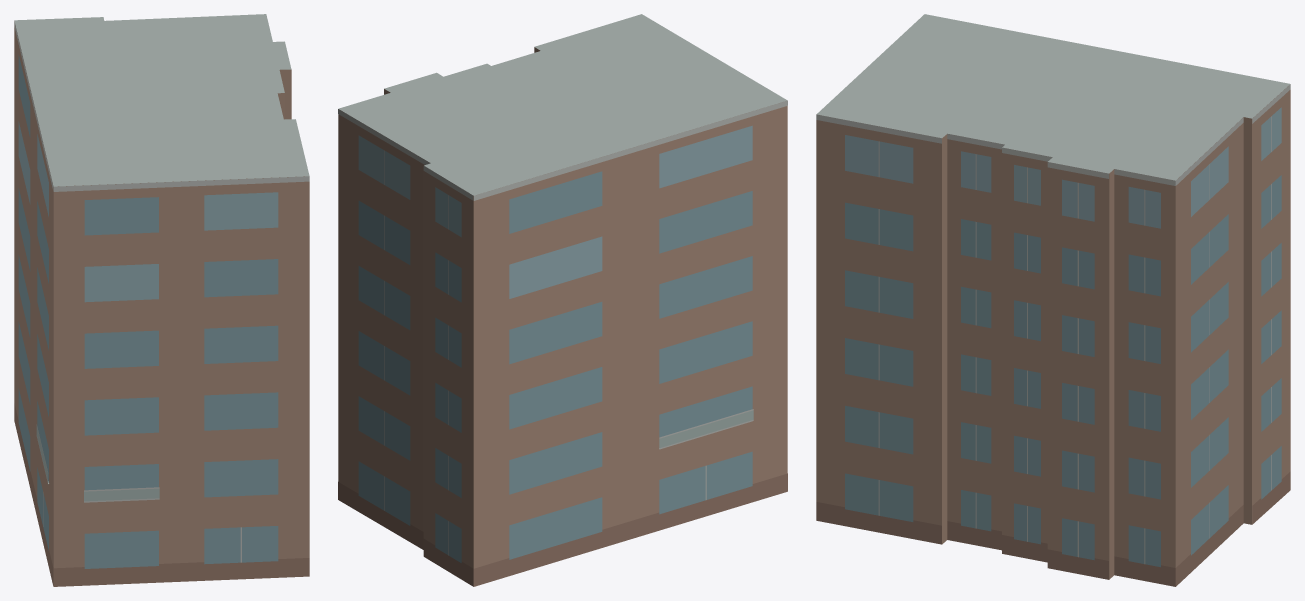
Rendered from survey-upis-32669515.glb.
The picture shows the model from 3 angles, left to right: view 1: azimuth 30°, elevation 25°; view 2: azimuth 150°, elevation 25°; view 3: azimuth 270°, elevation 25°; orthographic projection. The views are drawn at different scales.
Parts seen in each view (by area): view 1: survey-upis-32669515.tmp; view 2: survey-upis-32669515.tmp; view 3: survey-upis-32669515.tmp.
Boxes of the visible parts, left/top/right/bottom form: survey-upis-32669515.tmp: left=14, top=14, right=309, bottom=586; survey-upis-32669515.tmp: left=338, top=14, right=787, bottom=586; survey-upis-32669515.tmp: left=816, top=14, right=1290, bottom=586.
Size of the model in its own units: 15.93 by 18.1 by 19.16.
